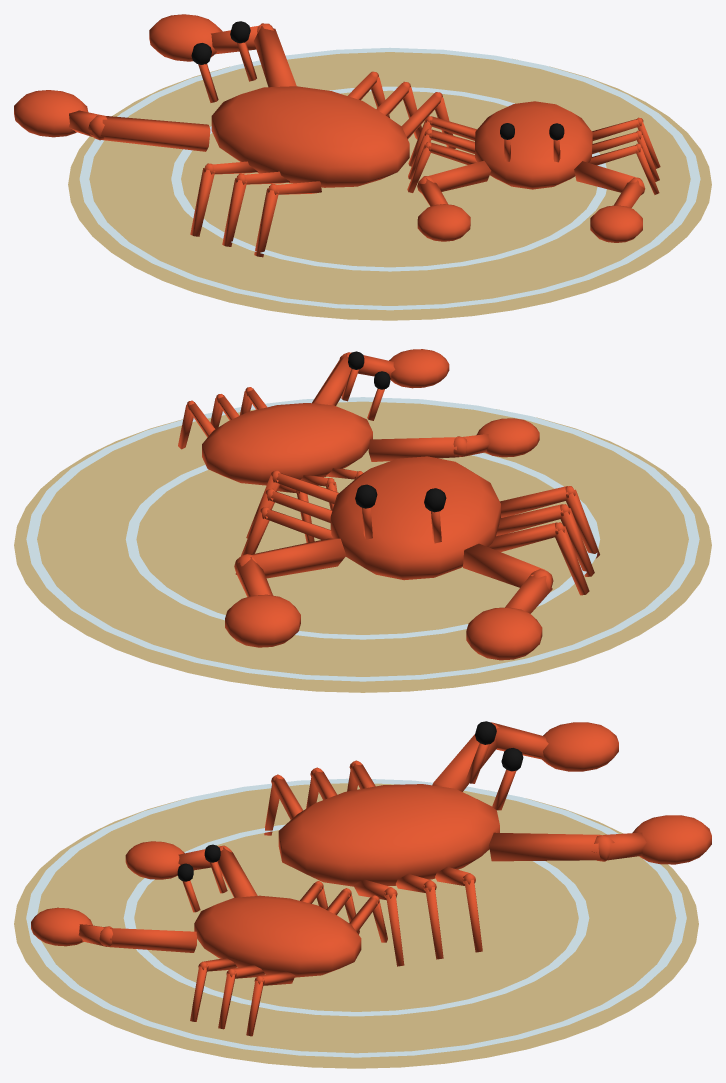
File: resource_crabs.fbx
3 views of the same model, one above another, from view 1: azimuth 30°, elevation 25°; view 2: azimuth 150°, elevation 25°; view 3: azimuth 270°, elevation 25° (orthographic). The views are drawn at different scales.
Parts seen in each view (by area): view 1: resource_crabs_sg#d8c08a_01, resource_crabs_crab_02, resource_crabs_foam_ring.001_00, resource_crabs_ceye_03; view 2: resource_crabs_sg#d8c08a_01, resource_crabs_crab_02, resource_crabs_foam_ring.001_00, resource_crabs_ceye_03; view 3: resource_crabs_sg#d8c08a_01, resource_crabs_crab_02, resource_crabs_foam_ring.001_00, resource_crabs_ceye_03.
Boxes of the visible parts, bbox=[...] form: resource_crabs_sg#d8c08a_01: bbox=[68, 52, 711, 320]; resource_crabs_crab_02: bbox=[14, 14, 660, 257]; resource_crabs_foam_ring.001_00: bbox=[79, 47, 700, 310]; resource_crabs_ceye_03: bbox=[191, 21, 564, 140]; resource_crabs_sg#d8c08a_01: bbox=[14, 401, 711, 692]; resource_crabs_crab_02: bbox=[178, 349, 599, 660]; resource_crabs_foam_ring.001_00: bbox=[26, 397, 699, 681]; resource_crabs_ceye_03: bbox=[348, 351, 446, 512]; resource_crabs_sg#d8c08a_01: bbox=[14, 783, 698, 1068]; resource_crabs_crab_02: bbox=[31, 722, 711, 1036]; resource_crabs_foam_ring.001_00: bbox=[26, 778, 686, 1057]; resource_crabs_ceye_03: bbox=[177, 721, 523, 881].
Size of the model in its own units: 104 by 22.87 by 106.
